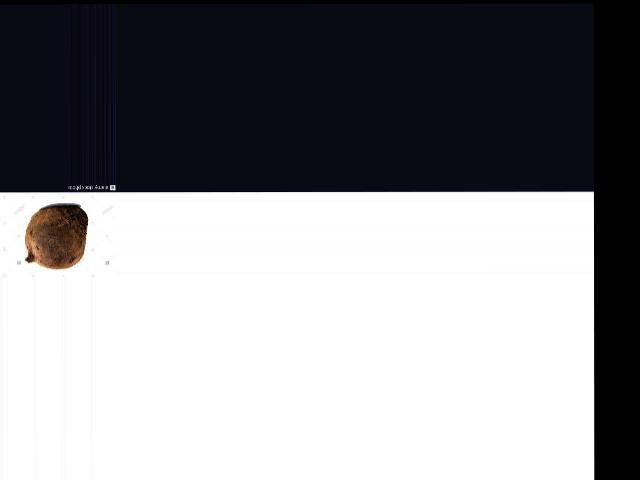beet: (24, 205, 87, 268)
